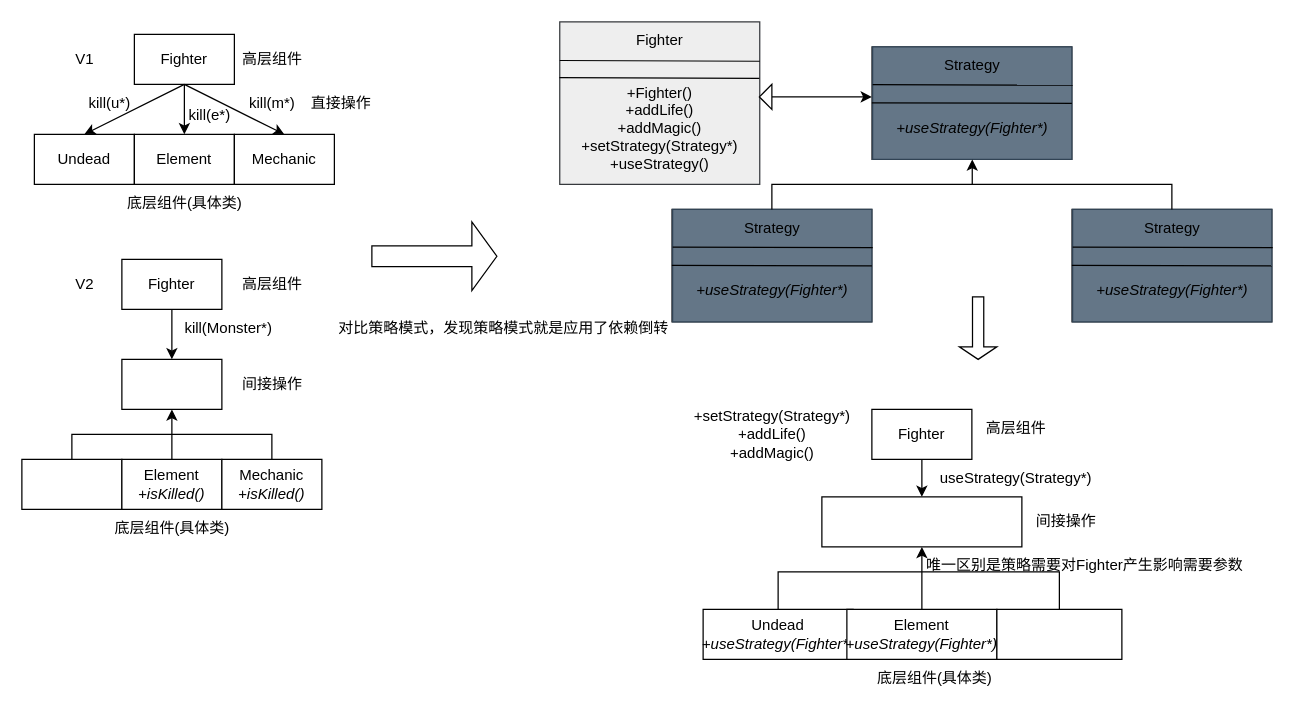
Image size: 1296x719. Some labels were removed from this diagram. The centre of each missing label's shape, as x and y in pixels:
"Mechanic +useStrategy(Fighter*)" goes at point 1059,633.
"Monster +isKilled()" goes at point 171,383.
"Monster +useStrategy(Fighter*)" goes at point 921,521.
"Undead +isKilled()" goes at point 71,483.
